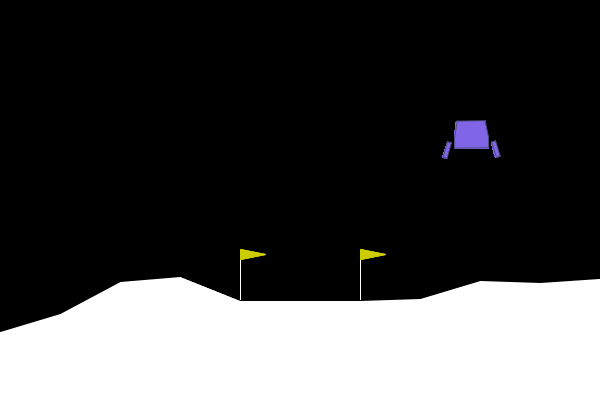lander: (441, 119, 501, 160)
